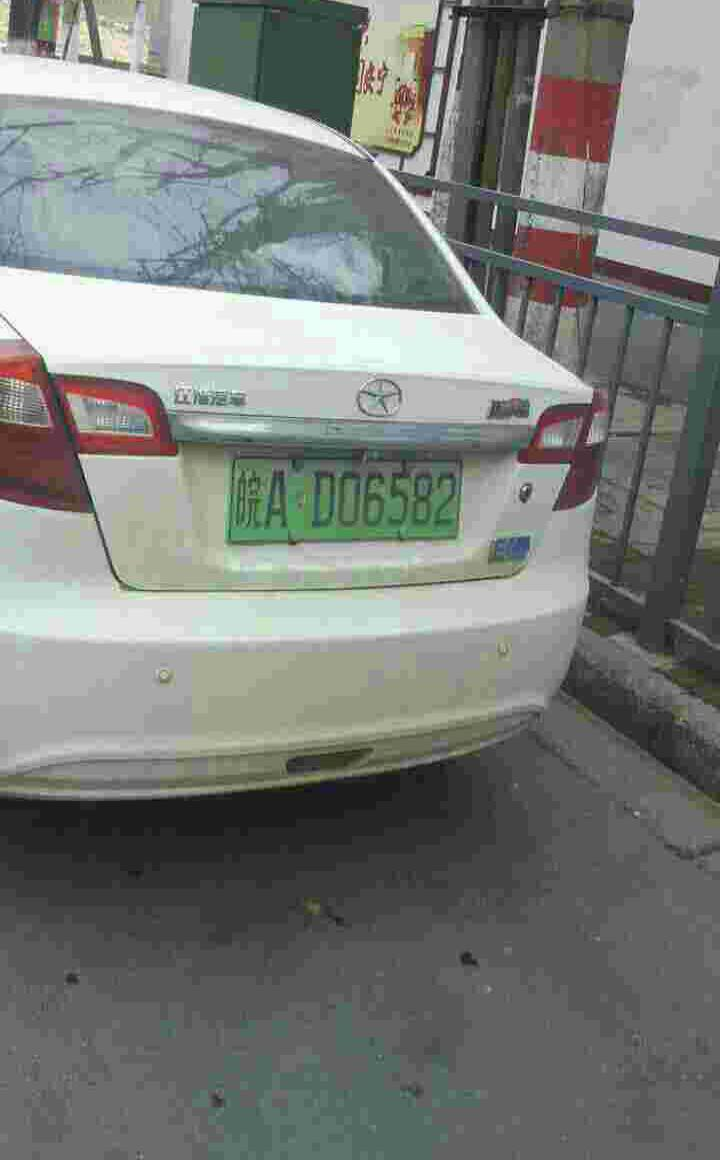car: (222, 459, 472, 543)
